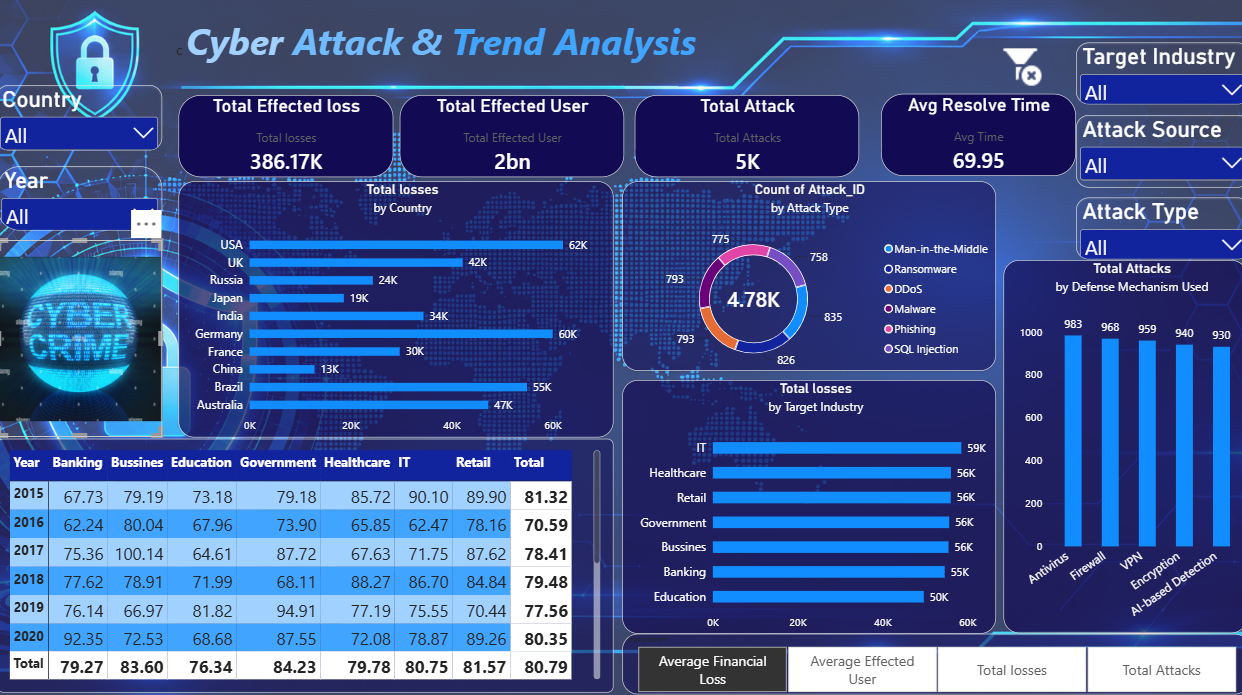

The dashboard page shown, as its layout file describes it:
{"tool":"powerbi","page":{"name":"Page 1","canvas":[1672,1000],"ordinal":0},"visuals":[{"type":"slicer","fields":{"Values":["Live_Telemetry_Stream.Country"]},"box":[0,147.2,221.7,87.2],"z":7},{"type":"slicer","fields":{"Values":["Attack_Directory.Attack Type"]},"box":[1439.4,296.6,233,82.5],"z":8},{"type":"slicer","fields":{"Values":["Live_Telemetry_Stream.Target Industry"]},"box":[1439.3,89.6,233,82.5],"z":9},{"type":"slicer","fields":{"Values":["Live_Telemetry_Stream.Attack Source"]},"box":[1439.4,187.2,233,96.8],"z":11},{"type":"slicer","fields":{"Values":["Live_Telemetry_Stream.Year"]},"box":[1.8,254.4,219.9,85.4],"z":12},{"type":"cardVisual","title":"Total Effected loss","fields":{"Data":["Live_Telemetry_Stream.Total losses"]},"box":[243.5,159.9,286.8,109.3],"z":13},{"type":"cardVisual","title":"Total Effected User","fields":{"Data":["Live_Telemetry_Stream.Total Effected User"]},"box":[537.9,159.9,299.3,109.3],"z":14},{"type":"cardVisual","title":"Total Attack","fields":{"Data":["Live_Telemetry_Stream.Total Attacks"]},"box":[852.4,159.9,299.3,109.3],"z":15},{"type":"cardVisual","title":"Avg Resolve Time","fields":{"Data":["Live_Telemetry_Stream.Avg Time"]},"box":[1179.6,157.5,259.9,109.3],"z":16},{"type":"barChart","fields":{"Category":["Live_Telemetry_Stream.Country"],"Y":["Live_Telemetry_Stream.Total losses"]},"box":[243.5,274.4,579.7,341.7],"z":17},{"type":"donutChart","fields":{"Category":["Attack_Directory.Attack Type"],"Y":["CountNonNull(Live_Telemetry_Stream.Attack_ID)"]},"box":[835.3,274.2,498.3,252.7],"z":18},{"type":"pivotTable","fields":{"Columns":["Live_Telemetry_Stream.Target Industry"],"Rows":["Live_Telemetry_Stream.Year"],"Values":["cybersecuirity_dataset.Average Financial Loss"]},"box":[1.8,617.9,821.5,338],"z":19},{"type":"columnChart","fields":{"Category":["Live_Telemetry_Stream.Defense Mechanism Used"],"Y":["Live_Telemetry_Stream.Total Attacks"]},"box":[1343.8,380.4,325.1,497.7],"z":21},{"type":"barChart","fields":{"Category":["Live_Telemetry_Stream.Target Industry"],"Y":["Live_Telemetry_Stream.Total losses"]},"box":[835.3,539.5,498.3,338.8],"z":22},{"type":"slicer","fields":{"Values":["Parameter.Parameter"]},"box":[834.5,878,837.8,80.4],"z":23},{"type":"textbox","box":[240.2,55.6,749.2,68.1],"z":24},{"type":"image","box":[1310.3,89.6,111.1,57.4],"z":25},{"type":"image","box":[1.8,352.6,219.9,263.5],"z":26}]}

Visuals, with their boxes on the page's 1672x1000 design canvas (x1, y1, x2, y2). These are canvas units, not pixel positions in the 1242x695 screenshot, which may show the page scaled, cropped or inside an application window:
slicer - Live_Telemetry_Stream.Country: 0:147:222:234
slicer - Attack_Directory.Attack Type: 1439:297:1672:379
slicer - Live_Telemetry_Stream.Target Industry: 1439:90:1672:172
slicer - Live_Telemetry_Stream.Attack Source: 1439:187:1672:284
slicer - Live_Telemetry_Stream.Year: 2:254:222:340
"Total Effected loss" cardVisual: 244:160:530:269
"Total Effected User" cardVisual: 538:160:837:269
"Total Attack" cardVisual: 852:160:1152:269
"Avg Resolve Time" cardVisual: 1180:158:1440:267
barChart - Live_Telemetry_Stream.Country x Live_Telemetry_Stream.Total losses: 244:274:823:616
donutChart - Attack_Directory.Attack Type x CountNonNull(Live_Telemetry_Stream.Attack_ID): 835:274:1334:527
pivotTable - Live_Telemetry_Stream.Target Industry x Live_Telemetry_Stream.Year: 2:618:823:956
columnChart - Live_Telemetry_Stream.Defense Mechanism Used x Live_Telemetry_Stream.Total Attacks: 1344:380:1669:878
barChart - Live_Telemetry_Stream.Target Industry x Live_Telemetry_Stream.Total losses: 835:540:1334:878
slicer - Parameter.Parameter: 834:878:1672:958
textbox: 240:56:989:124
image: 1310:90:1421:147
image: 2:353:222:616
